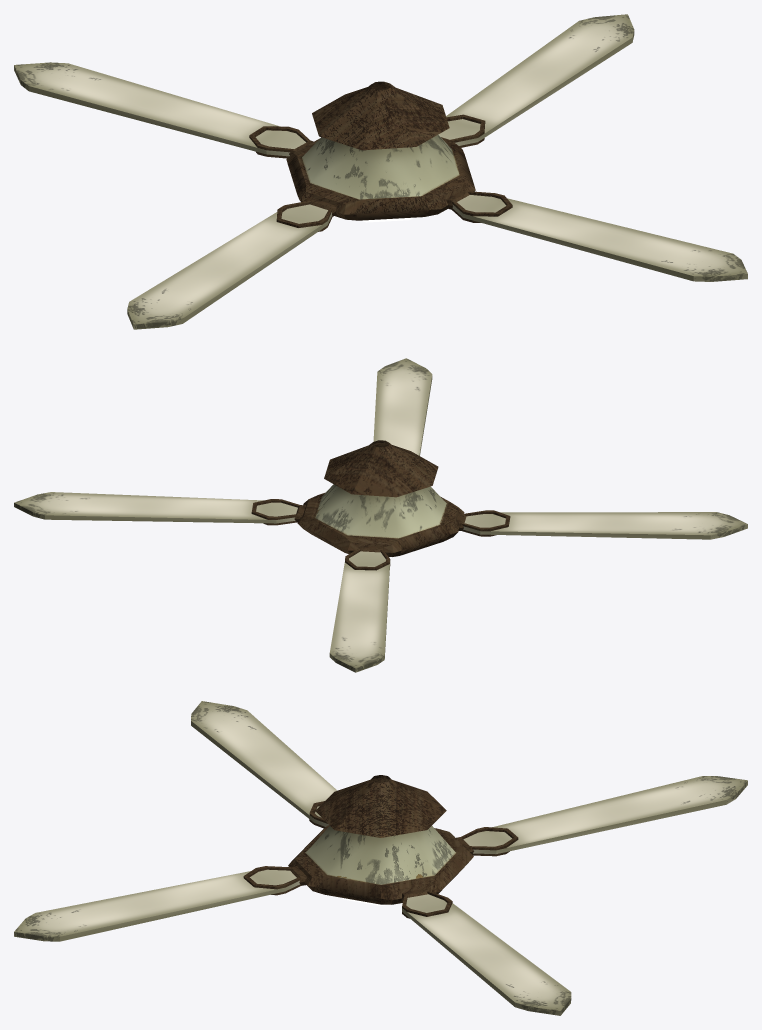
File: CeilingFan.fbx
The picture shows the model from 3 angles, top to bottom: view 1: azimuth 30°, elevation 25°; view 2: azimuth 150°, elevation 25°; view 3: azimuth 270°, elevation 25°; orthographic projection. The views are drawn at different scales.
Parts seen in each view (by area): view 1: polySurface335, polySurface337, polySurface334, polySurface336, polySurface338; view 2: polySurface335, polySurface338, polySurface336, polySurface337, polySurface334; view 3: polySurface335, polySurface337, polySurface334, polySurface338, polySurface336.
Boxes of the visible parts, <box> form: polySurface335: <box>286,81,475,222</box>; polySurface337: <box>14,62,309,158</box>; polySurface334: <box>451,191,747,281</box>; polySurface336: <box>127,200,332,329</box>; polySurface338: <box>438,14,634,147</box>; polySurface335: <box>294,440,466,557</box>; polySurface338: <box>14,492,299,525</box>; polySurface336: <box>462,510,747,539</box>; polySurface337: <box>329,548,390,672</box>; polySurface334: <box>373,358,432,455</box>; polySurface335: <box>288,775,473,905</box>; polySurface337: <box>461,776,747,856</box>; polySurface334: <box>14,866,301,941</box>; polySurface338: <box>402,891,571,1015</box>; polySurface336: <box>191,701,336,828</box>.
Bounding box in the file's own units: 13.5 × 2.28 × 13.5.
